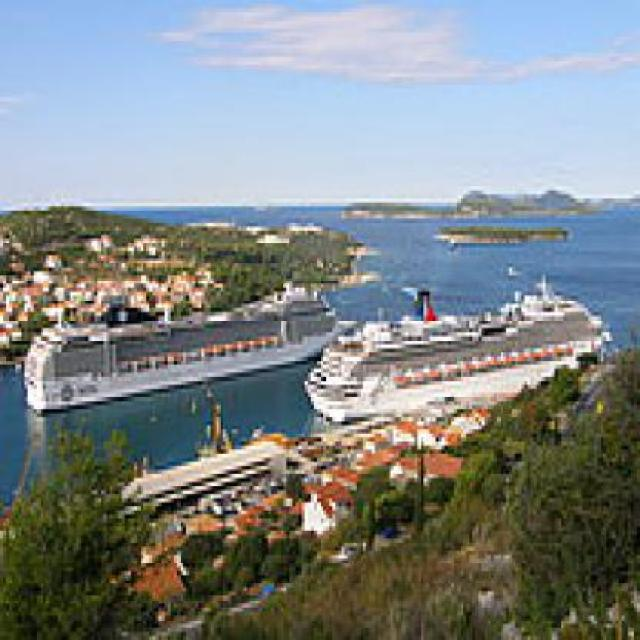cruise: (303, 277, 629, 431), (20, 276, 367, 418)
